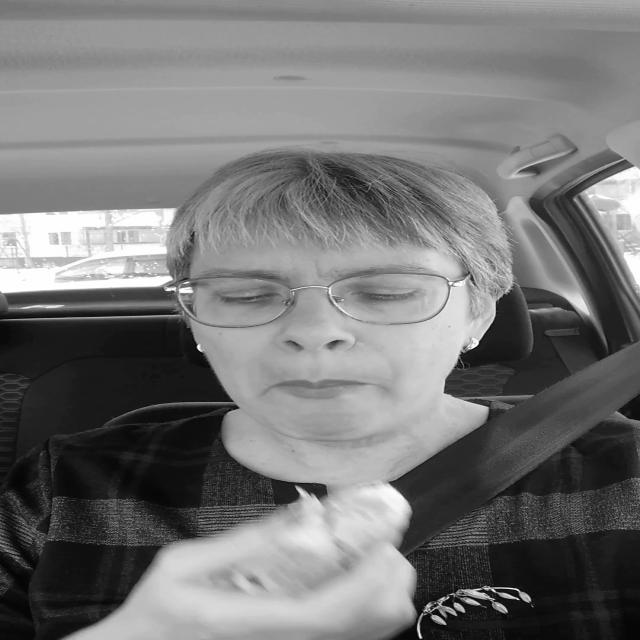Eating: (252, 478, 413, 597)
Seatbelt: (392, 330, 639, 554)
